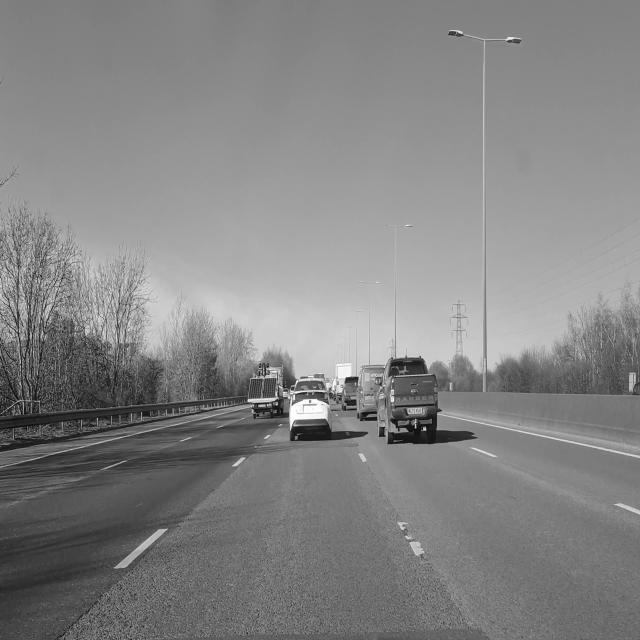car: (374, 352, 443, 447), (289, 378, 331, 440), (357, 365, 384, 421), (341, 377, 358, 410)
